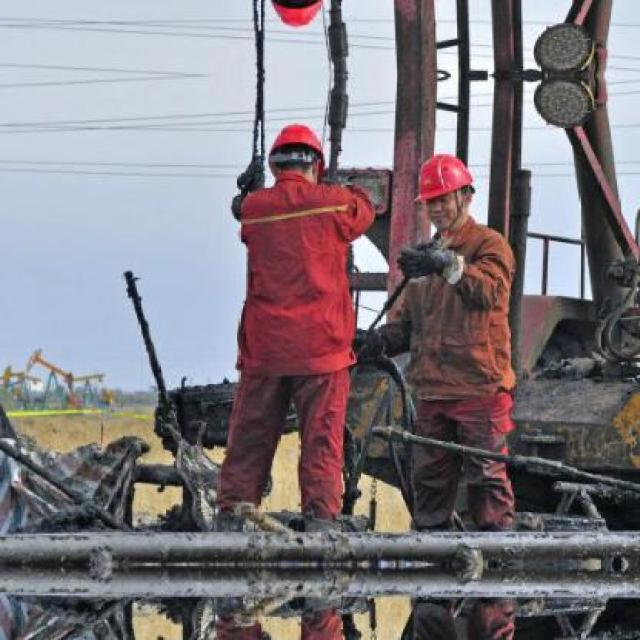helmet: (405, 146, 489, 212), (263, 114, 339, 179)
